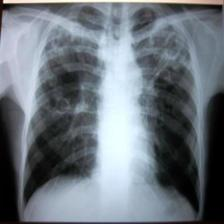tuberculosis: (17, 3, 205, 221)
